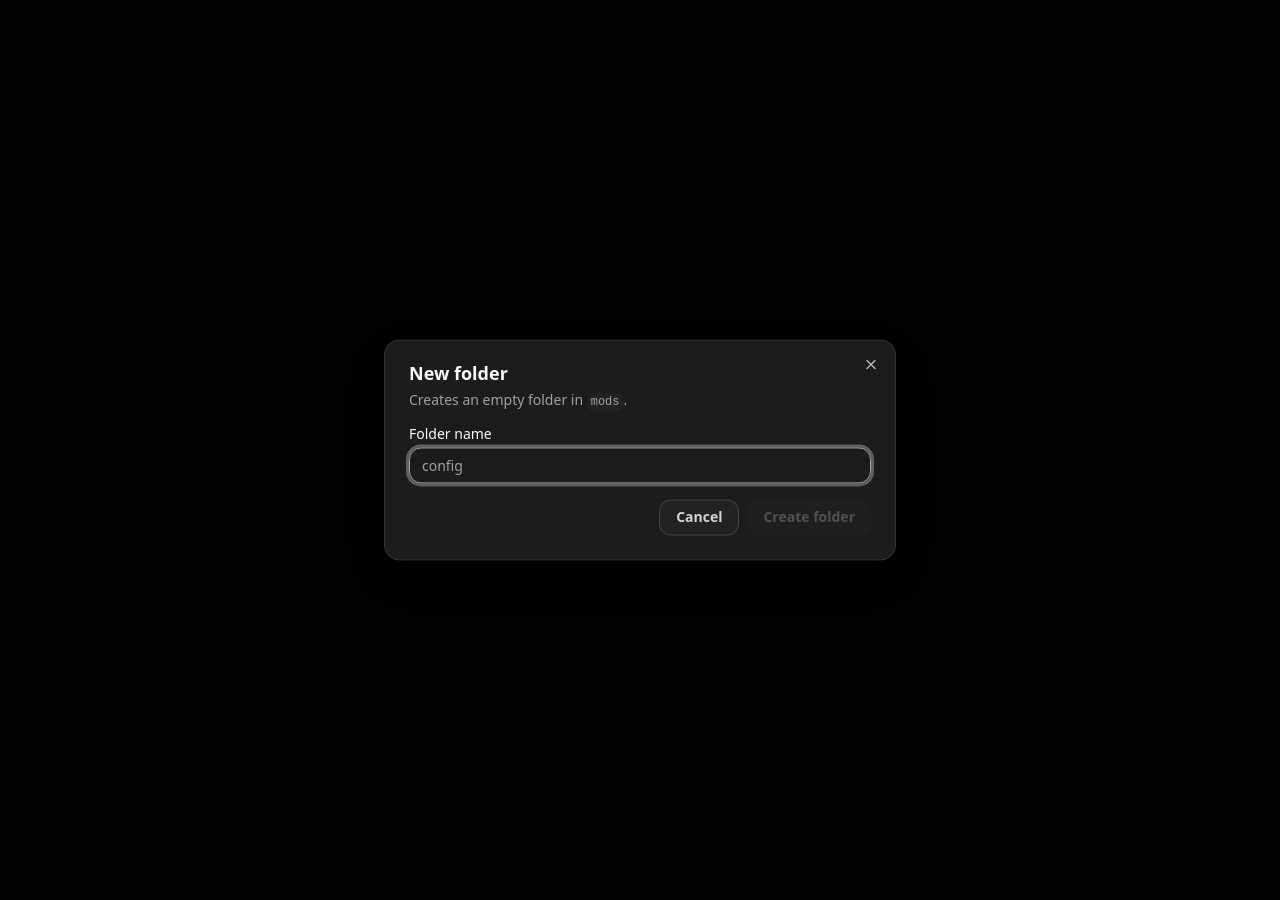
NewFolderDialog › refuses a nested folder name
This screenshot has width=1280, height=900.
Type "a/b" into the field labelled "Folder name" at (640, 466), box [409,448,871,484]
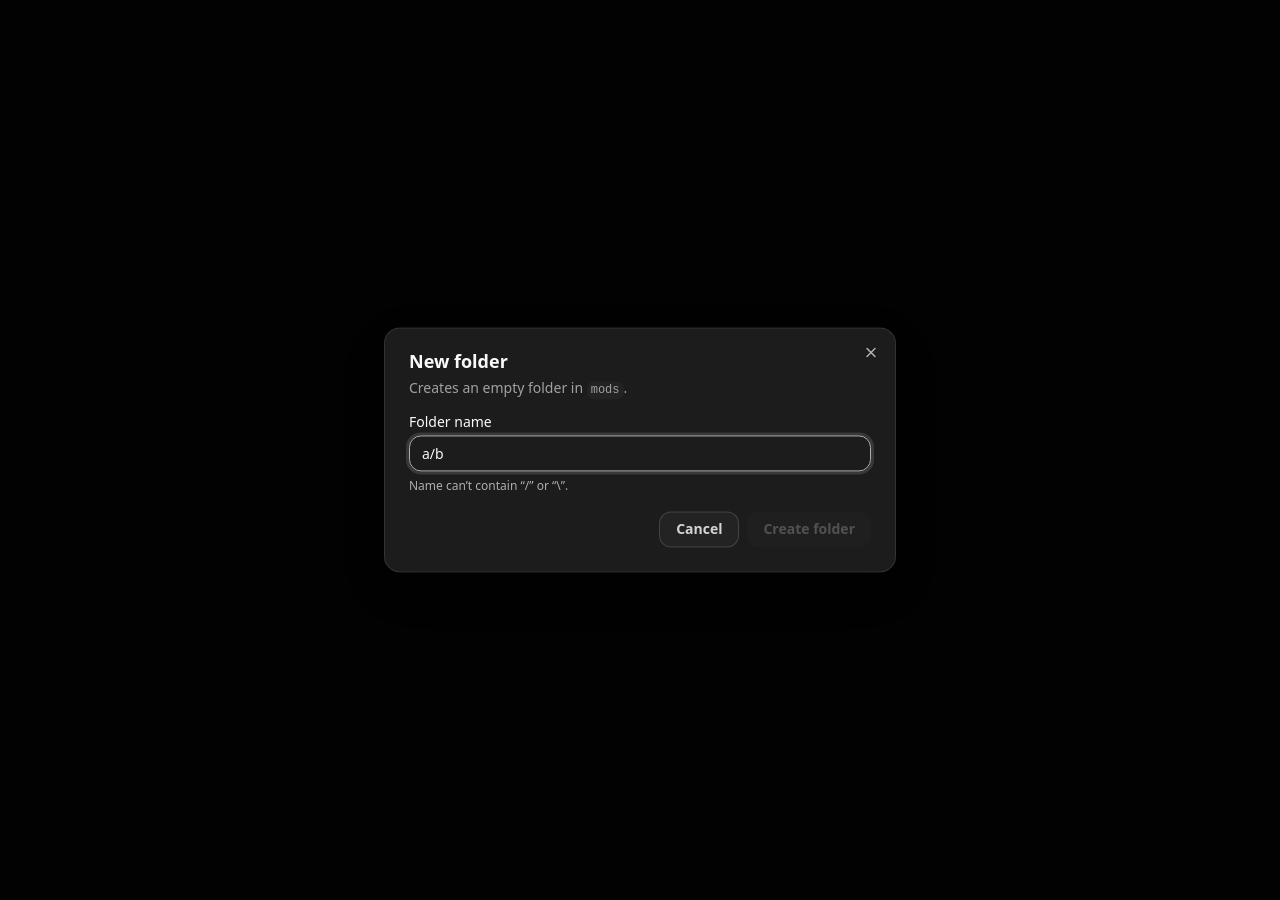
Expected: the button "Create folder" is disabled, [747,512,871,548]
Expected: the text "Name can’t contain “/” or “\\”." is shown, [409,478,568,495]
